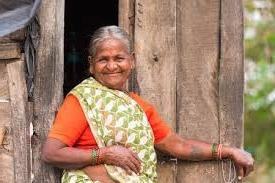Human: (43, 18, 242, 183)
